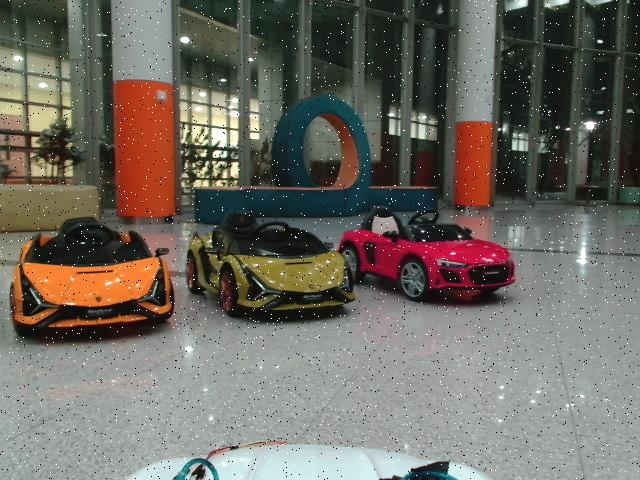car: (8, 217, 176, 338), (184, 210, 356, 316), (336, 205, 516, 299)
